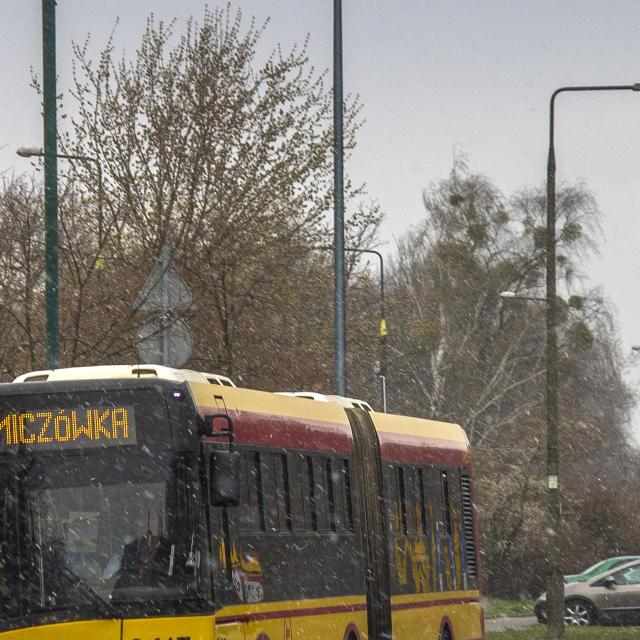Bus: (0, 372, 484, 640)
Electric pole: (547, 82, 640, 640)
